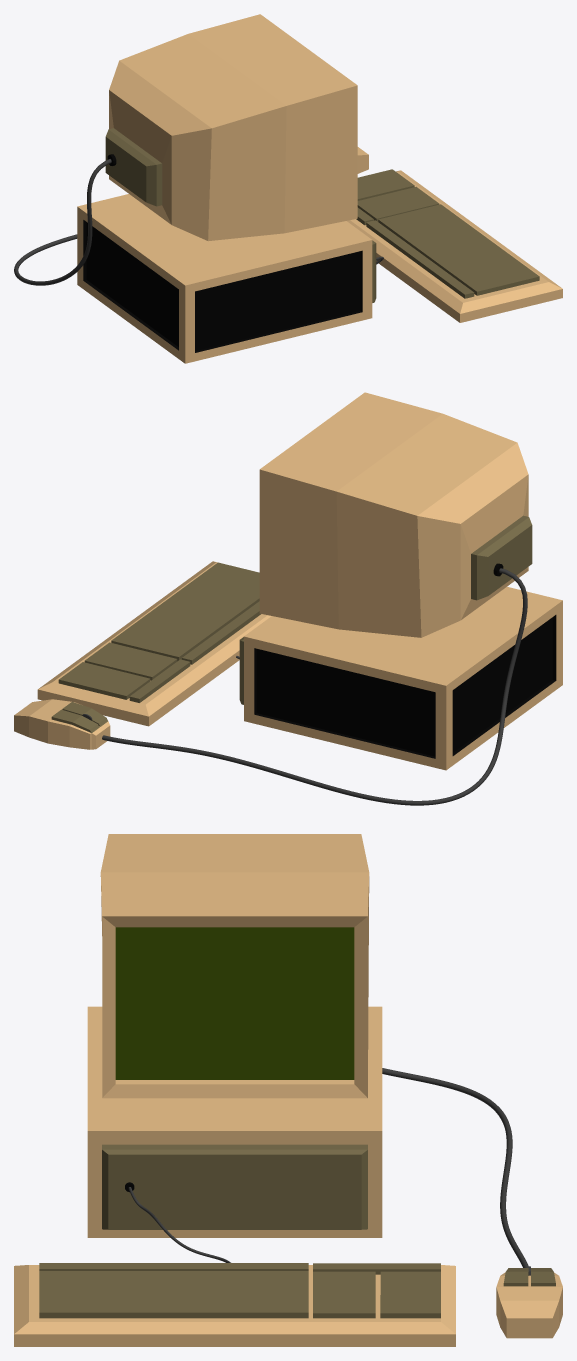
The model's file is Ordenador.fbx.
3 renders of one model, top to bottom at view 1: azimuth 30°, elevation 25°; view 2: azimuth 150°, elevation 25°; view 3: azimuth 270°, elevation 25°, orthographic. The views are drawn at different scales.
Parts seen in each view (by area): view 1: Raton; view 2: Raton; view 3: Raton.
Part boxes in pixels (x1=…): Raton: x1=14, y1=14, x2=562, y2=363; Raton: x1=14, y1=392, x2=562, y2=805; Raton: x1=14, y1=834, x2=562, y2=1346.
Bounding box in the file's own units: 0.7814 × 0.4426 × 0.6906.
